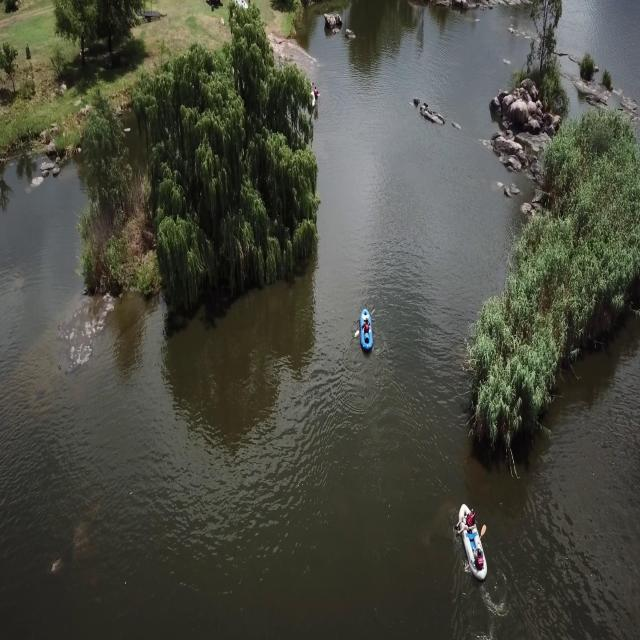kayak: (452, 492, 488, 589), (354, 299, 376, 357)
